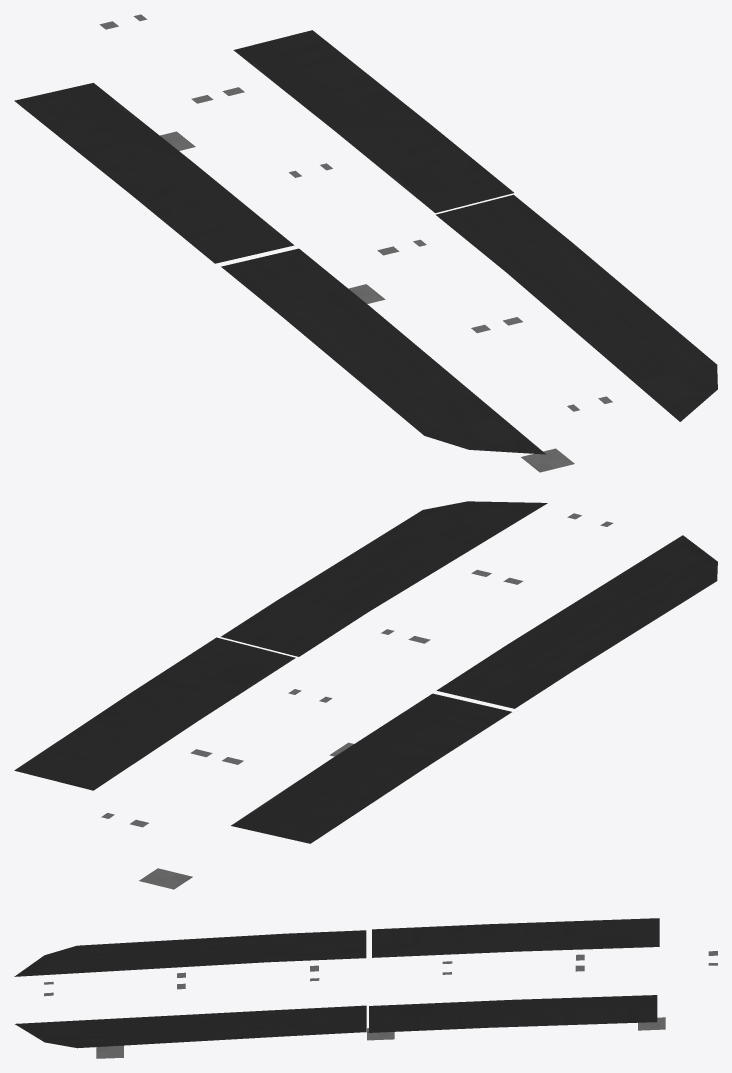
The model's file is T_Upper_Left_2.glb.
The picture shows the model from 3 angles, top to bottom: view 1: azimuth 30°, elevation 25°; view 2: azimuth 150°, elevation 25°; view 3: azimuth 270°, elevation 25°; orthographic projection. The views are drawn at different scales.
Parts seen in each view (by area): view 1: world; view 2: world; view 3: world.
Part boxes in pixels (<box>): world: <box>14,14,717,472</box>; world: <box>14,501,717,889</box>; world: <box>14,918,717,1058</box>.
Size of the model in its own units: 0.00182 by 0.000767 by 0.00523.
1 material, 1 textured.
